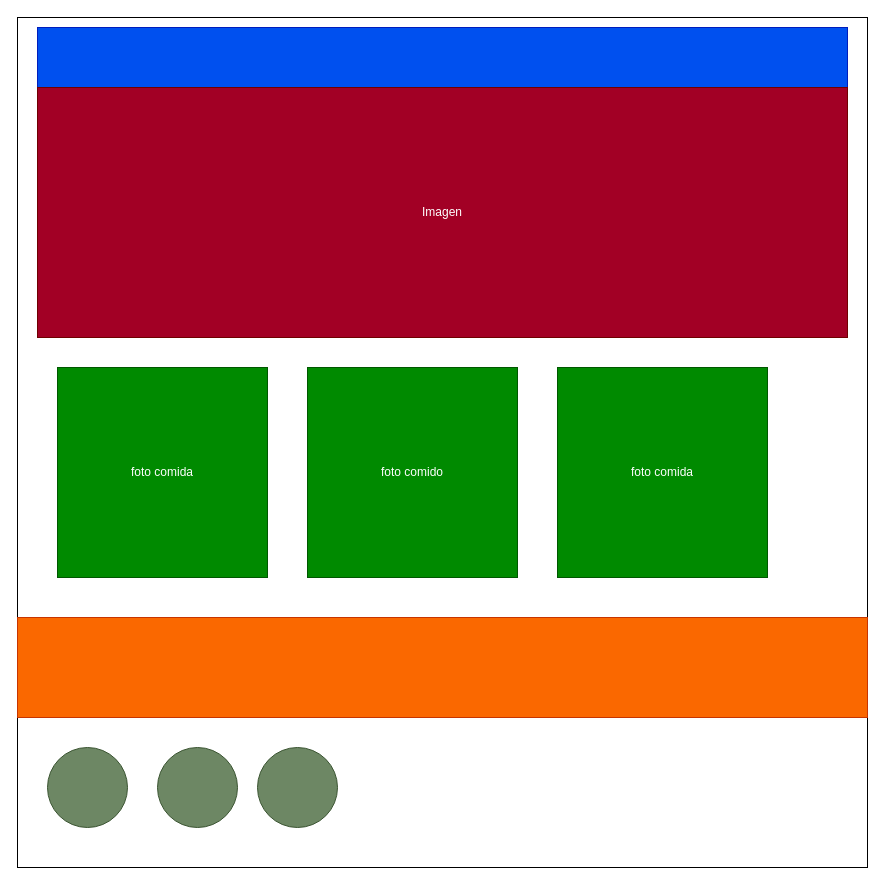
Some shapes in this 885 by 885 pixel diagram are drawn without their labels. Here are the shapes that lost their labels. From the top down, the centre of each, then its label:
At (x=442, y=57): "Inicio Menu Sobre nosotros Sucursales".
At (x=442, y=667): "Publicidad".
